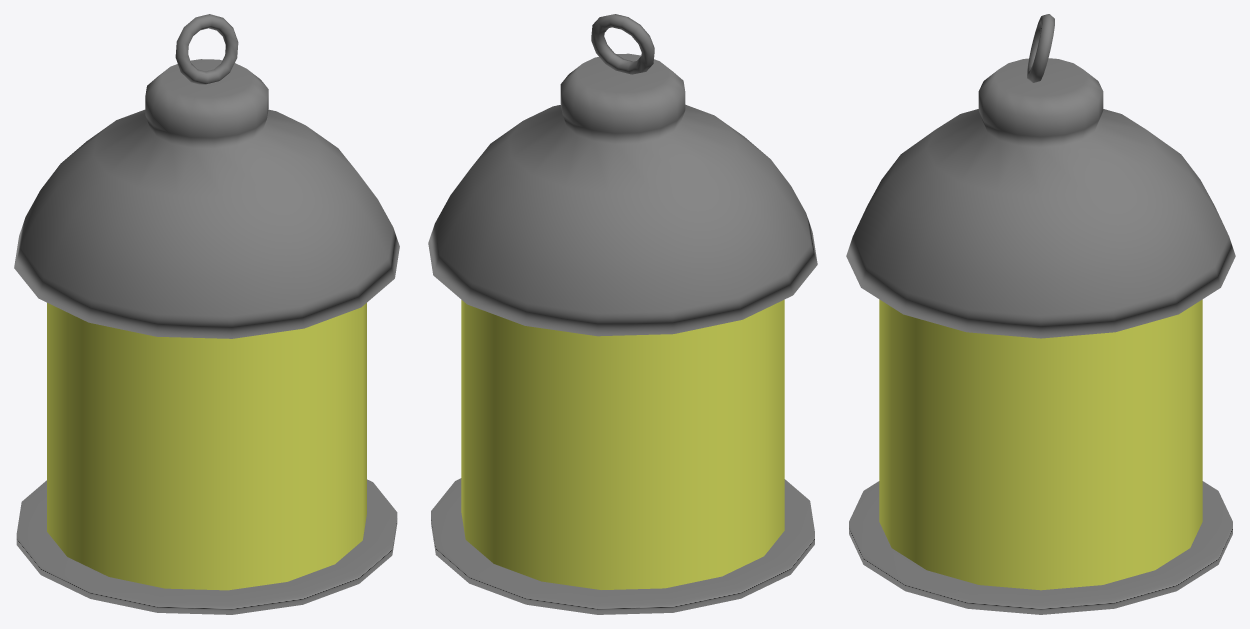
Rendered from Farolillo.fbx.
The picture shows the model from 3 angles, left to right: view 1: azimuth 30°, elevation 25°; view 2: azimuth 150°, elevation 25°; view 3: azimuth 270°, elevation 25°; orthographic projection.
Visible parts, largest first — view 1: Cylinder, Cylinder.001, Torus; view 2: Cylinder, Cylinder.001, Torus; view 3: Cylinder, Cylinder.001, Torus.
Part boxes in pixels (box(x1,y1,x2,y2)): Cylinder: box(14, 59, 399, 614); Cylinder.001: box(47, 303, 366, 590); Torus: box(175, 14, 238, 84); Cylinder: box(428, 53, 817, 614); Cylinder.001: box(461, 299, 784, 589); Torus: box(591, 14, 654, 74); Cylinder: box(846, 58, 1235, 614); Cylinder.001: box(879, 299, 1202, 590); Torus: box(1027, 14, 1054, 82).
Size of the model in its own units: 203 by 297 by 203.
